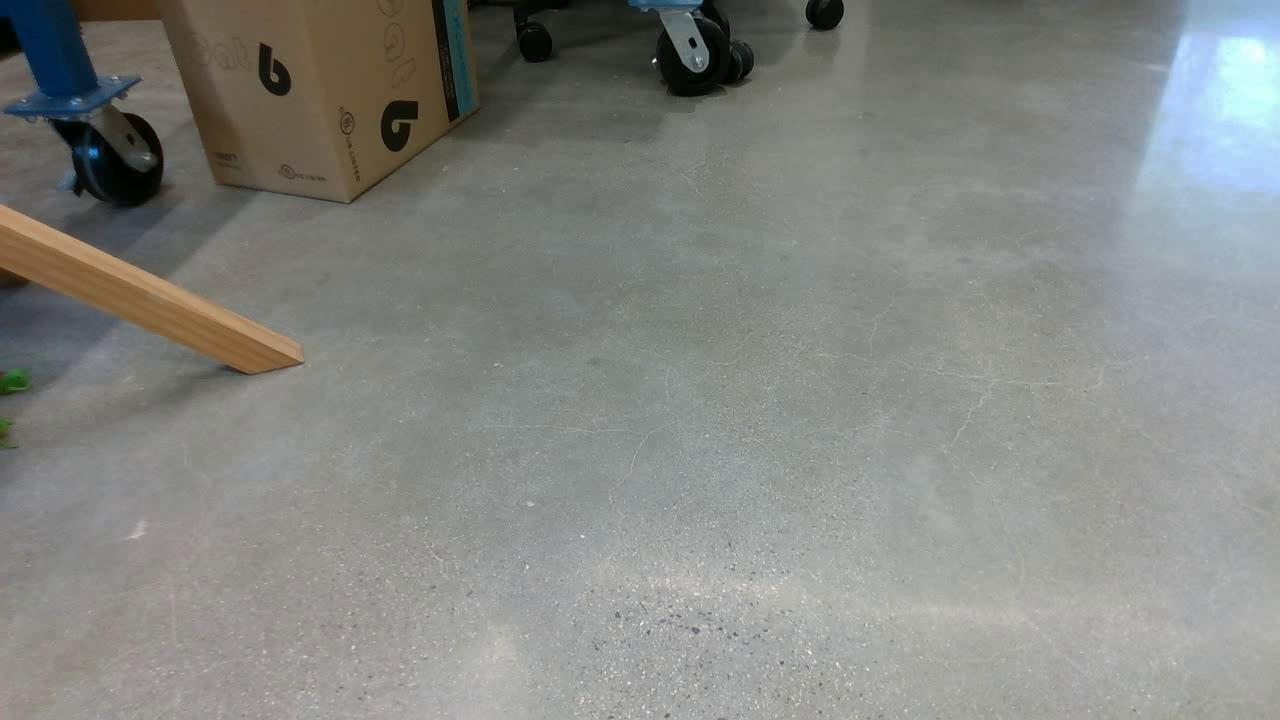grasshopper: (1, 362, 42, 395), (1, 416, 26, 452)
